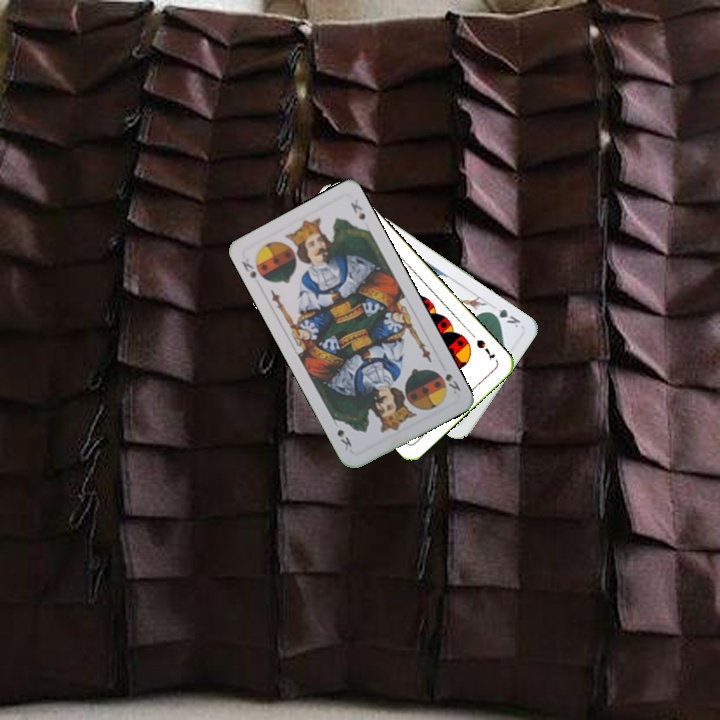GK: (485, 305, 523, 330)
S7: (472, 335, 497, 362)
SK: (237, 254, 269, 284), (441, 369, 463, 397)
